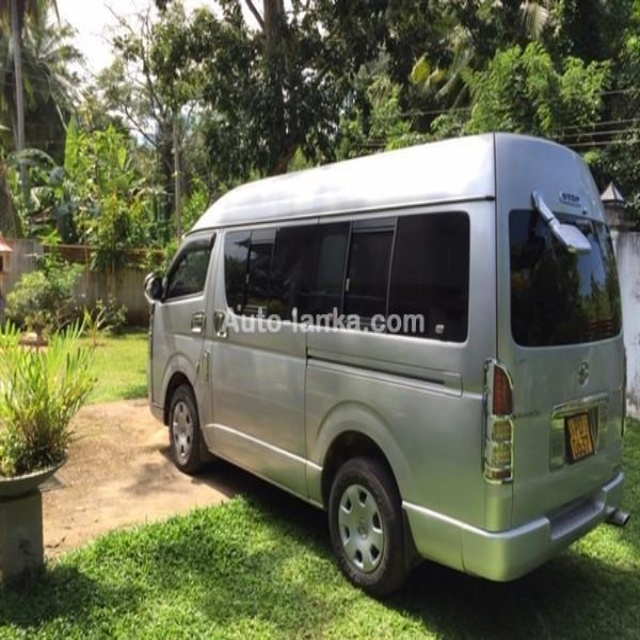Van: (142, 131, 629, 599)
